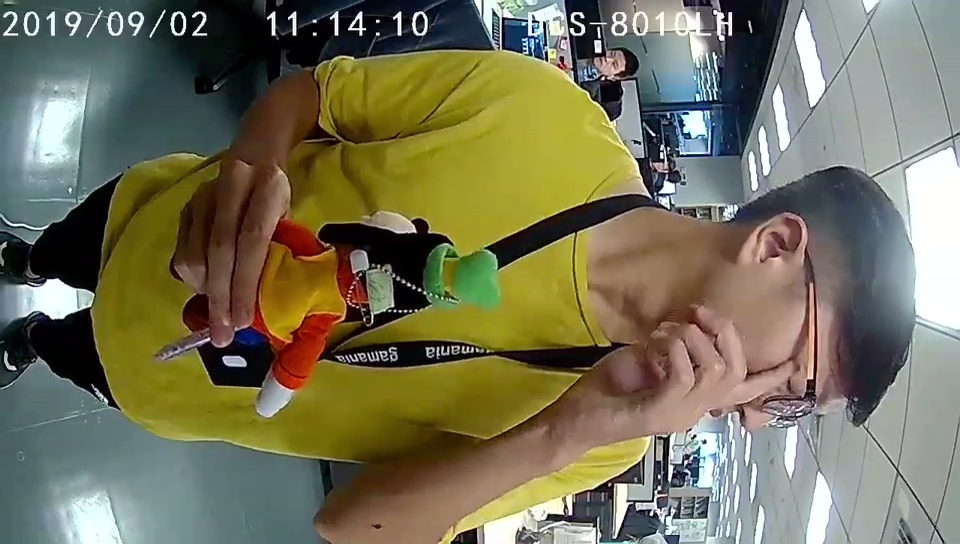goofy: (255, 223, 500, 415)
